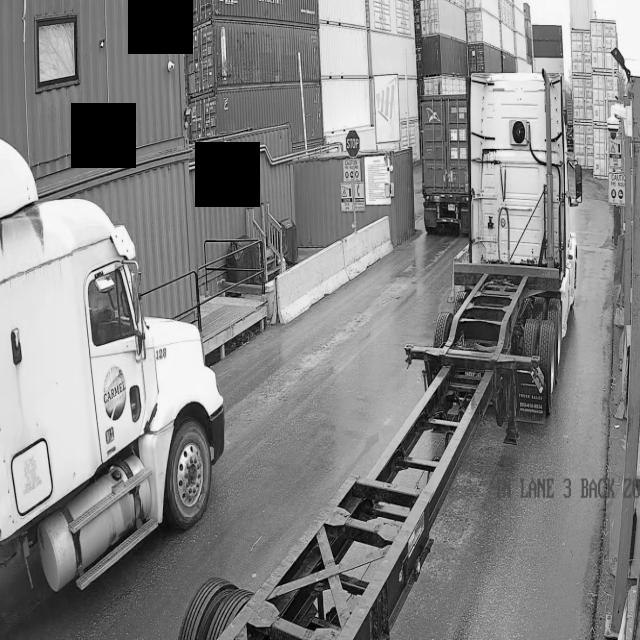truck_cabin: (0, 138, 224, 590)
truck_company: (104, 367, 127, 421)
truck_number: (151, 338, 173, 367)
truck_without_container: (180, 71, 582, 640)
